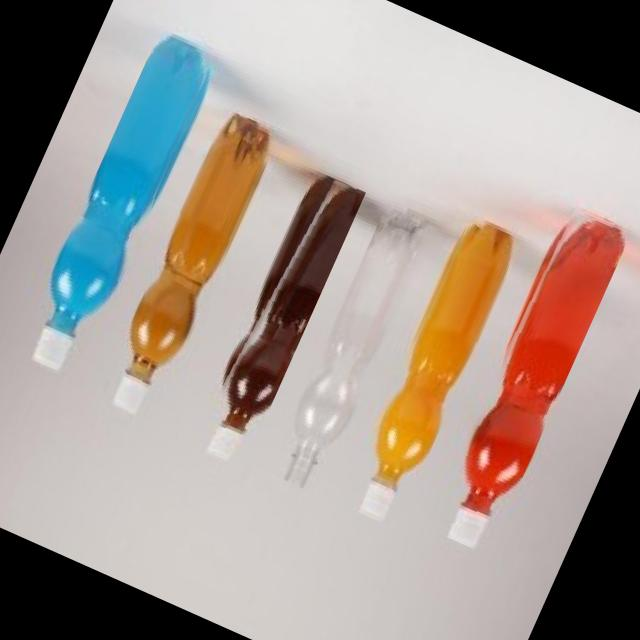plastic bottle: (421, 200, 632, 554), (13, 27, 222, 384), (94, 107, 280, 426), (340, 215, 523, 527), (189, 168, 365, 466), (267, 210, 437, 496)
